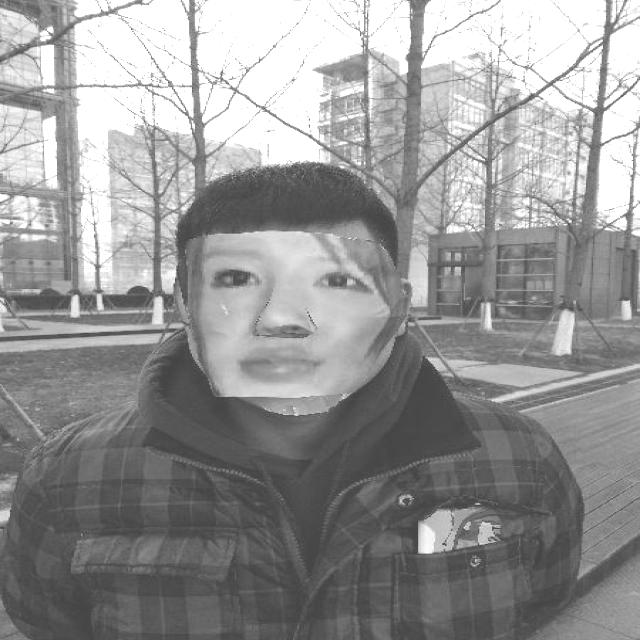fake: (174, 229, 410, 418)
